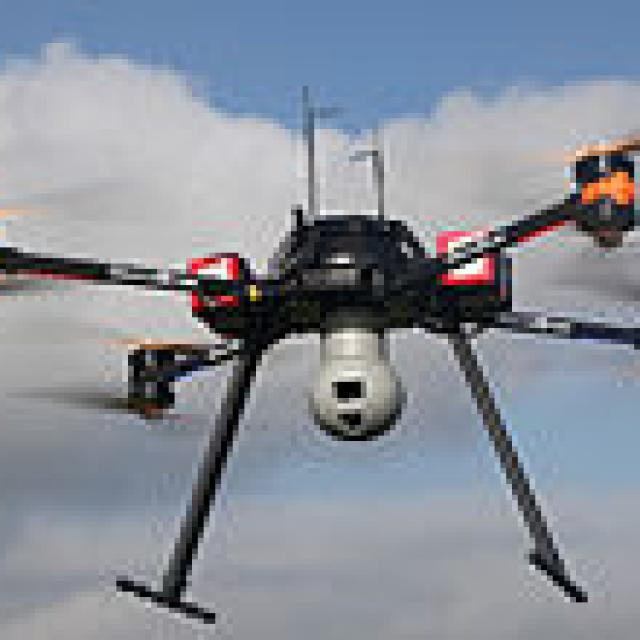drone: (0, 119, 640, 462)
